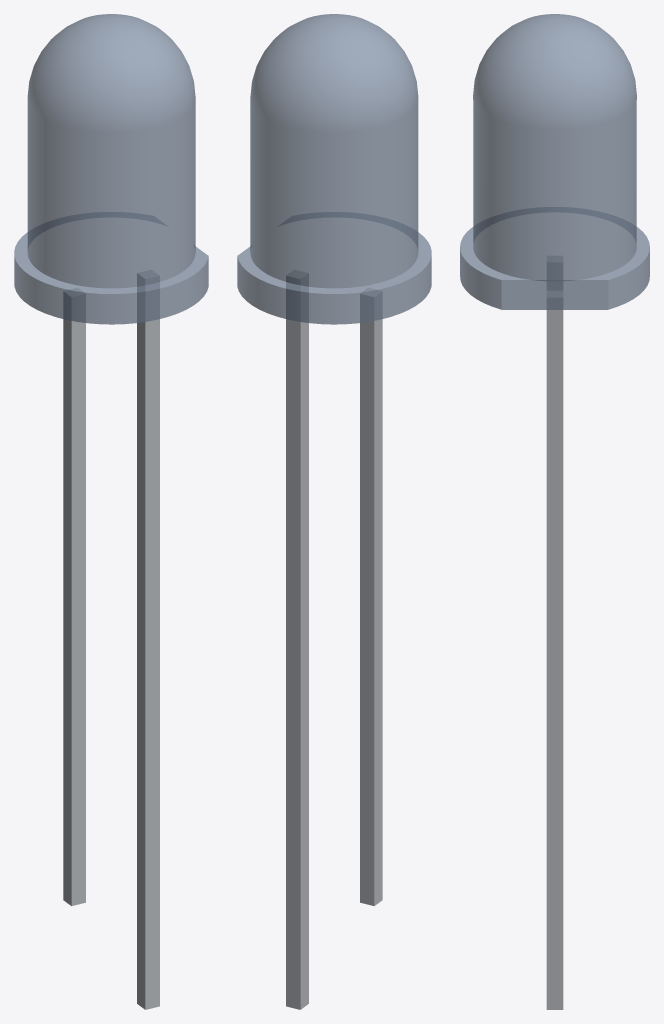
The picture shows the model from 3 angles, left to right: view 1: azimuth 30°, elevation 25°; view 2: azimuth 150°, elevation 25°; view 3: azimuth 270°, elevation 25°; orthographic projection. The views are drawn at different scales.
Visible parts, largest first — view 1: ir333c; view 2: ir333c; view 3: ir333c.
Part boxes in pixels (x1,y1,x2,y2): ir333c: (14,14,208,1009); ir333c: (237,14,431,1009); ir333c: (460,14,649,1009).
Bounding box in the file's own units: 5.39 × 32.6 × 5.8.
